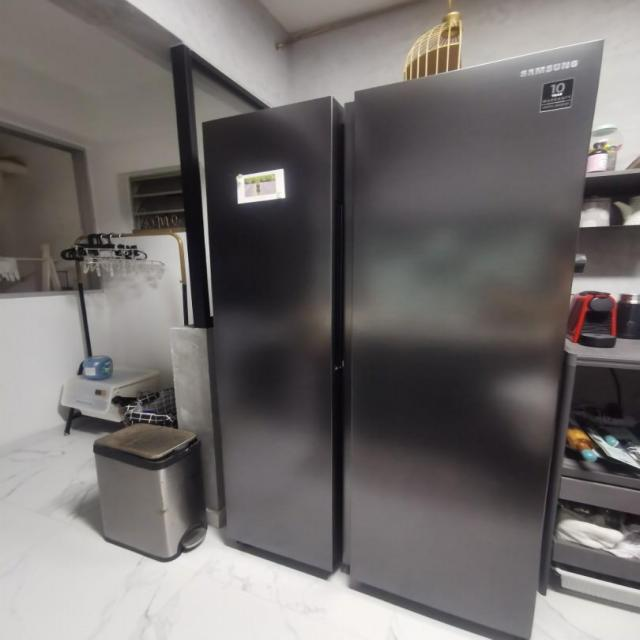refrigerator: (203, 36, 604, 640)
